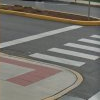crosswalk: (28, 34, 99, 66)
